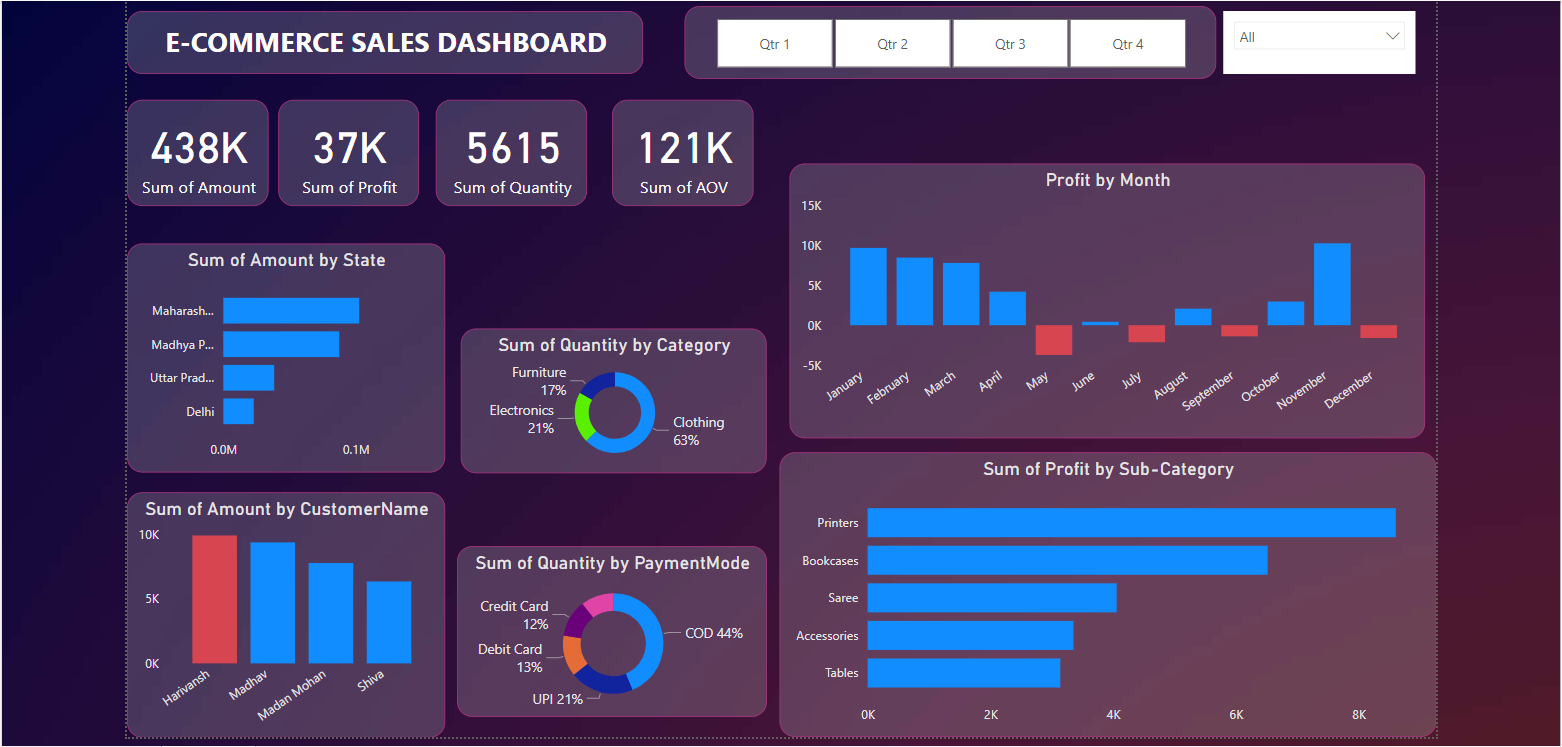

What the dashboard file says about the page in this screenshot:
{"tool":"powerbi","page":{"name":"Page 1","canvas":[1280,720],"ordinal":0},"visuals":[{"type":"textbox","box":[0,9.6,505,61.7],"z":0},{"type":"columnChart","title":"Profit by Month","fields":{"Y":["Details.Profit"],"Category":["Orders.Order Date.Variation.Date Hierarchy.Month"]},"box":[647.7,159.2,621.6,269],"z":1},{"type":"barChart","fields":{"Category":["Details.Sub-Category"],"Y":["Details.Profit"]},"box":[638.1,441.9,642.2,278.6],"z":2},{"type":"donutChart","fields":{"Category":["Details.Category"],"Y":["Details.Quantity"]},"box":[326.6,319.7,299.1,141.3],"z":3},{"type":"donutChart","fields":{"Y":["Details.Quantity"],"Category":["Details.PaymentMode"]},"box":[322.5,532.4,303.3,167.4],"z":4},{"type":"card","fields":{"Values":["Details.Amount"]},"box":[0,96.1,138.6,104.3],"z":5},{"type":"card","fields":{"Values":["Details.Profit"]},"box":[148.2,96.1,137.2,104.3],"z":6},{"type":"card","fields":{"Values":["Details.Quantity"]},"box":[301.9,96.1,148.2,104.3],"z":7},{"type":"card","fields":{"Values":["Details.AOV"]},"box":[474.8,96.1,138.6,104.3],"z":8},{"type":"barChart","fields":{"Y":["Details.Amount"],"Category":["Orders.State"]},"box":[0,237.4,311.5,223.7],"z":9},{"type":"columnChart","fields":{"Category":["Orders.CustomerName"],"Y":["Details.Amount"]},"box":[0,480.3,311.5,240.1],"z":10},{"type":"slicer","fields":{"Values":["Orders.Order Date.Variation.Date Hierarchy.Quarter"]},"box":[544.8,5.5,520.1,71.4],"z":11},{"type":"slicer","fields":{"Values":["Orders.State"]},"box":[1071.7,9.6,188,61.7],"z":12}]}

Visuals, with their boxes in screenshot pixels (x1, y1, x2, y2):
textbox: 0:6:518:69
"Profit by Month" columnChart: 664:159:1301:435
barChart - Details.Sub-Category x Details.Profit: 654:449:1312:735
donutChart - Details.Category x Details.Quantity: 335:324:641:469
donutChart - Details.Quantity x Details.PaymentMode: 331:542:642:713
card - Details.Amount: 0:94:142:201
card - Details.Profit: 152:94:293:201
card - Details.Quantity: 309:94:461:201
card - Details.AOV: 487:94:629:201
barChart - Details.Amount x Orders.State: 0:239:319:469
columnChart - Orders.CustomerName x Details.Amount: 0:488:319:734
slicer - Orders.Order Date.Variation.Date Hierarchy.Quarter: 559:2:1092:75
slicer - Orders.State: 1099:6:1291:69
